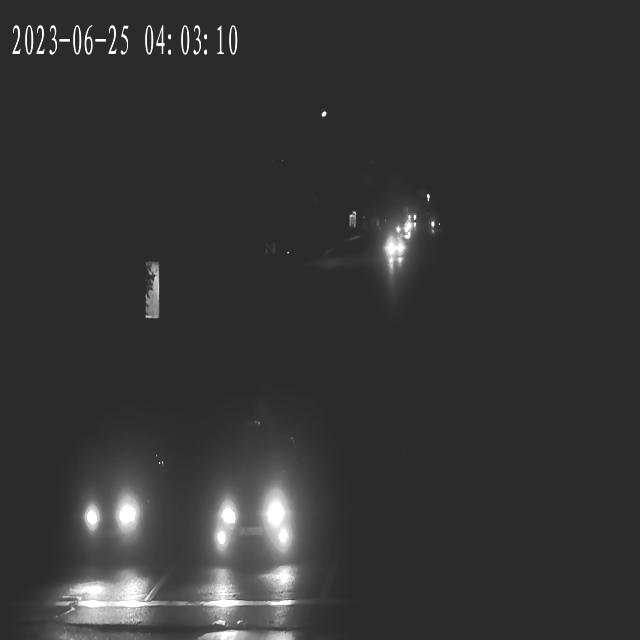Car: (76, 438, 160, 556), (202, 462, 298, 558), (381, 236, 405, 260), (392, 220, 411, 238), (395, 220, 413, 236)
